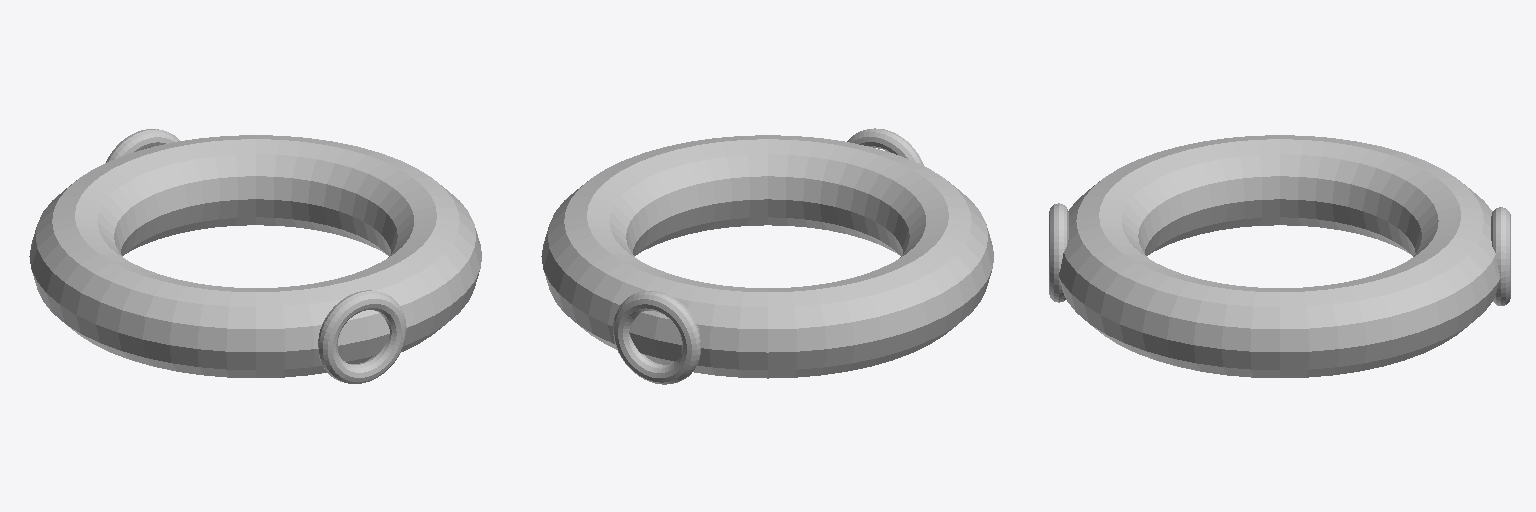
File: couronneroi1.obj
3 renders of one model, left to right at view 1: azimuth 30°, elevation 25°; view 2: azimuth 150°, elevation 25°; view 3: azimuth 270°, elevation 25°, orthographic.
Parts seen in each view (by area): view 1: off; view 2: off; view 3: off.
Boxes of the visible parts, x1=… form: off: x1=29, y1=129, x2=481, y2=383; off: x1=541, y1=128, x2=993, y2=384; off: x1=1049, y1=135, x2=1510, y2=377.
Bounding box in the file's own units: 2.5 × 0.5594 × 2.55.